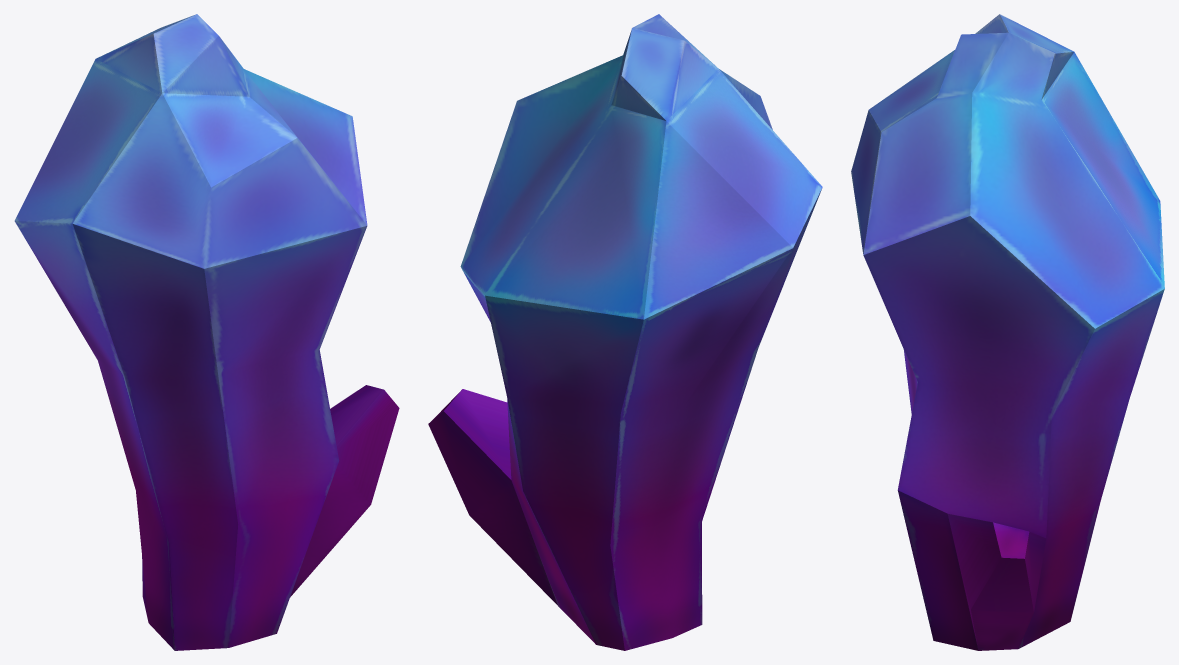
File: crystal1.fbx
The picture shows the model from 3 angles, left to right: view 1: azimuth 30°, elevation 25°; view 2: azimuth 150°, elevation 25°; view 3: azimuth 270°, elevation 25°; orthographic projection. The views are drawn at different scales.
Visible parts, largest first — view 1: Cube; view 2: Cube; view 3: Cube.
Part boxes in pixels (box(x1,y1,x2,y2)): Cube: box(14, 14, 399, 650); Cube: box(428, 14, 822, 650); Cube: box(851, 14, 1164, 650).
Bounding box in the file's own units: 305 × 478 × 229.
